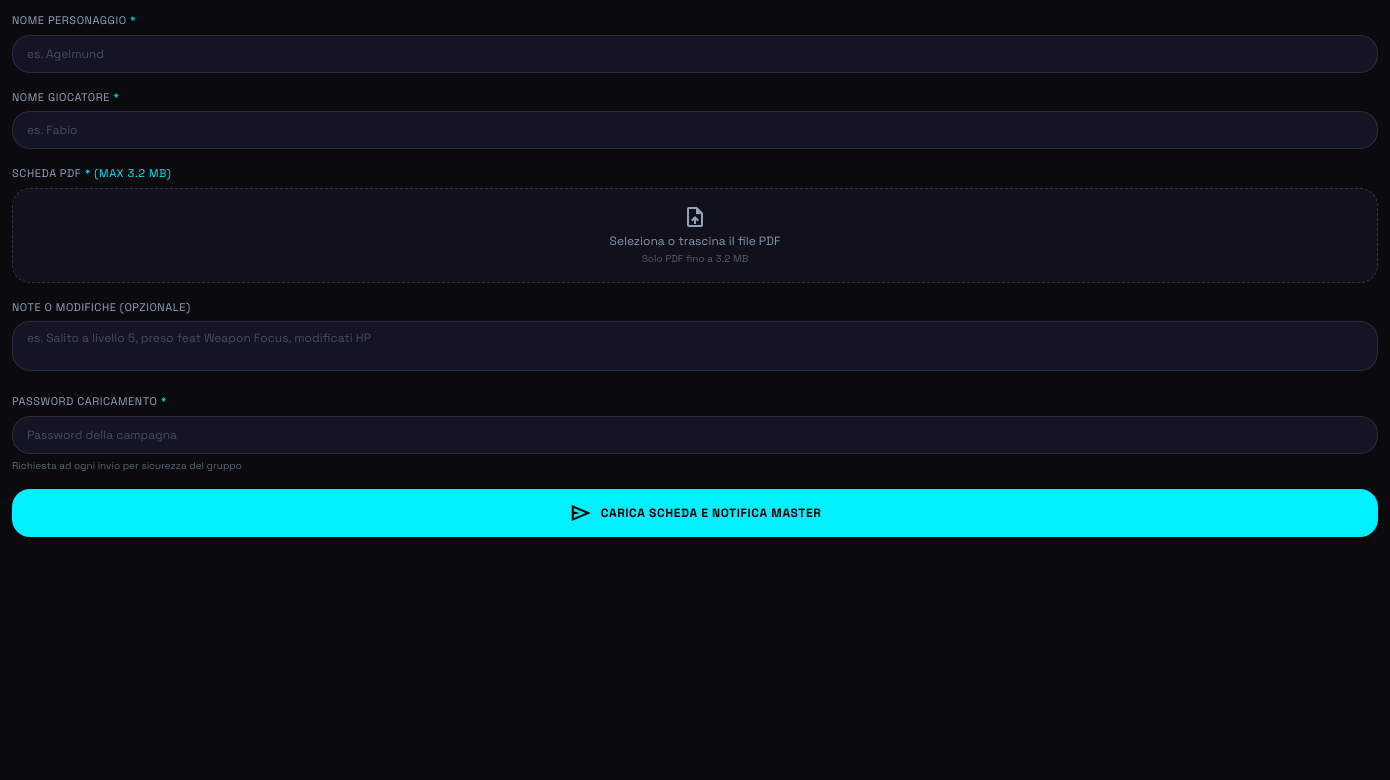
SheetUploadForm › shows error if submitting without a file or fields
In the field with placeholder "es. Agelmund": (695, 54) left=12, top=34, right=1378, bottom=72, type "Agelmund"
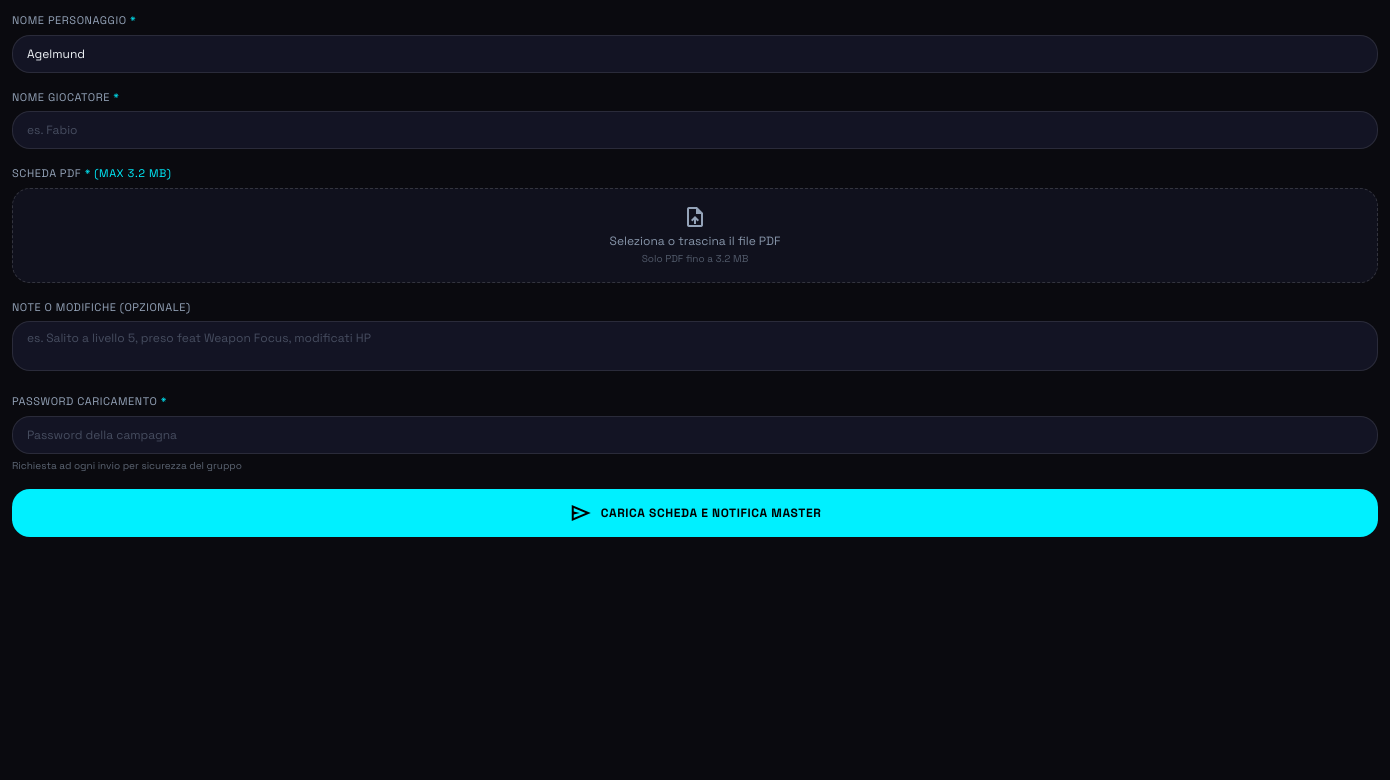
In the field with placeholder "es. Fabio": (695, 130) left=12, top=111, right=1378, bottom=149, type "Fabio"
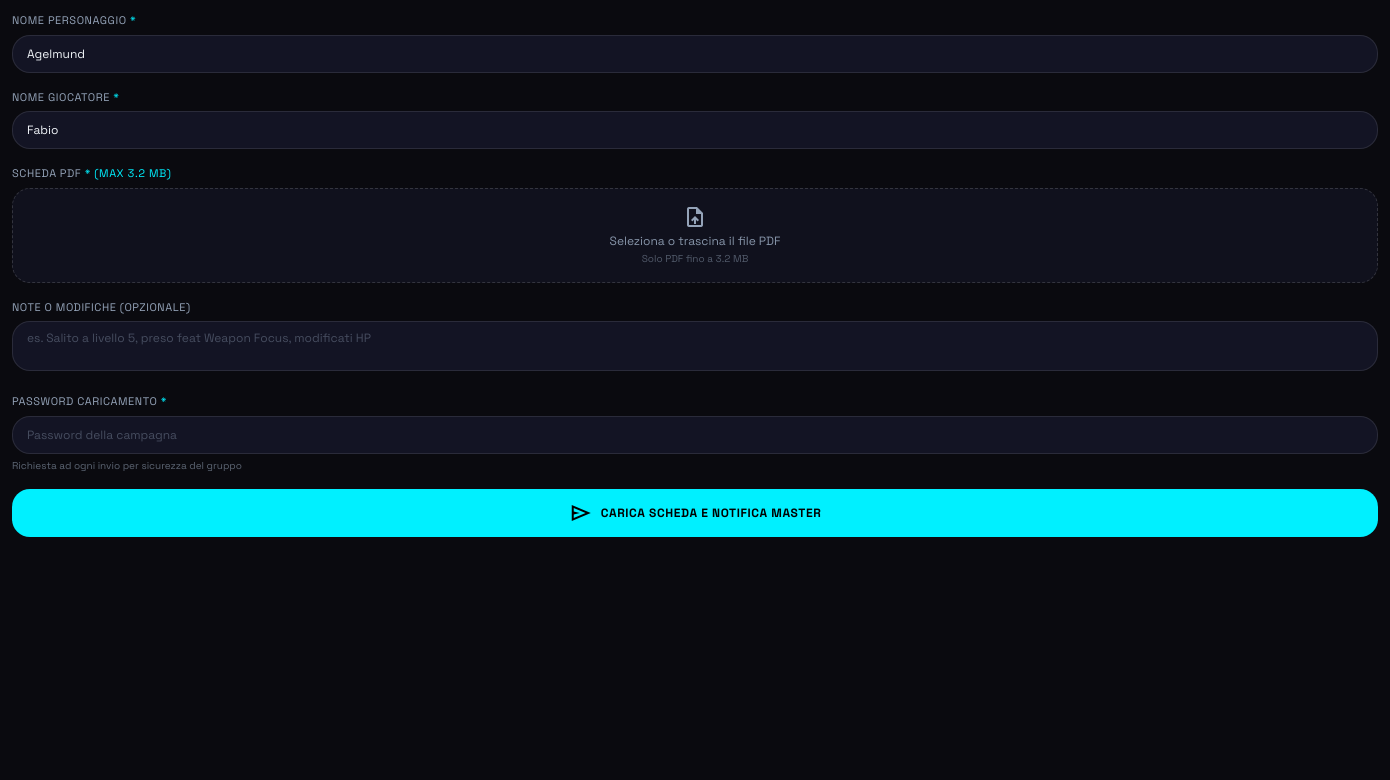
In the password field with placeholder "Password della campagna": (695, 434) left=12, top=416, right=1378, bottom=454, type "secret"
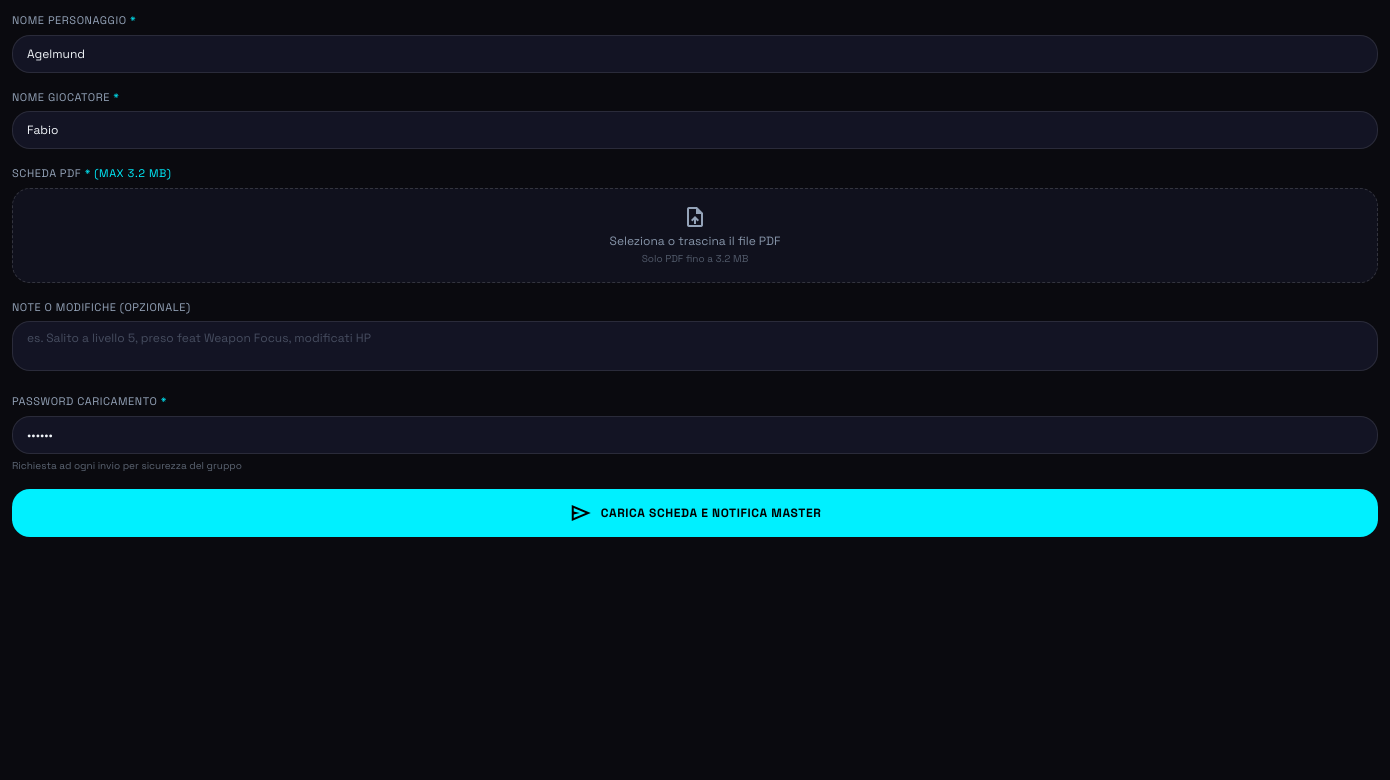
Click the button "Carica Scheda e Notifica Master": (695, 512) left=12, top=488, right=1378, bottom=536
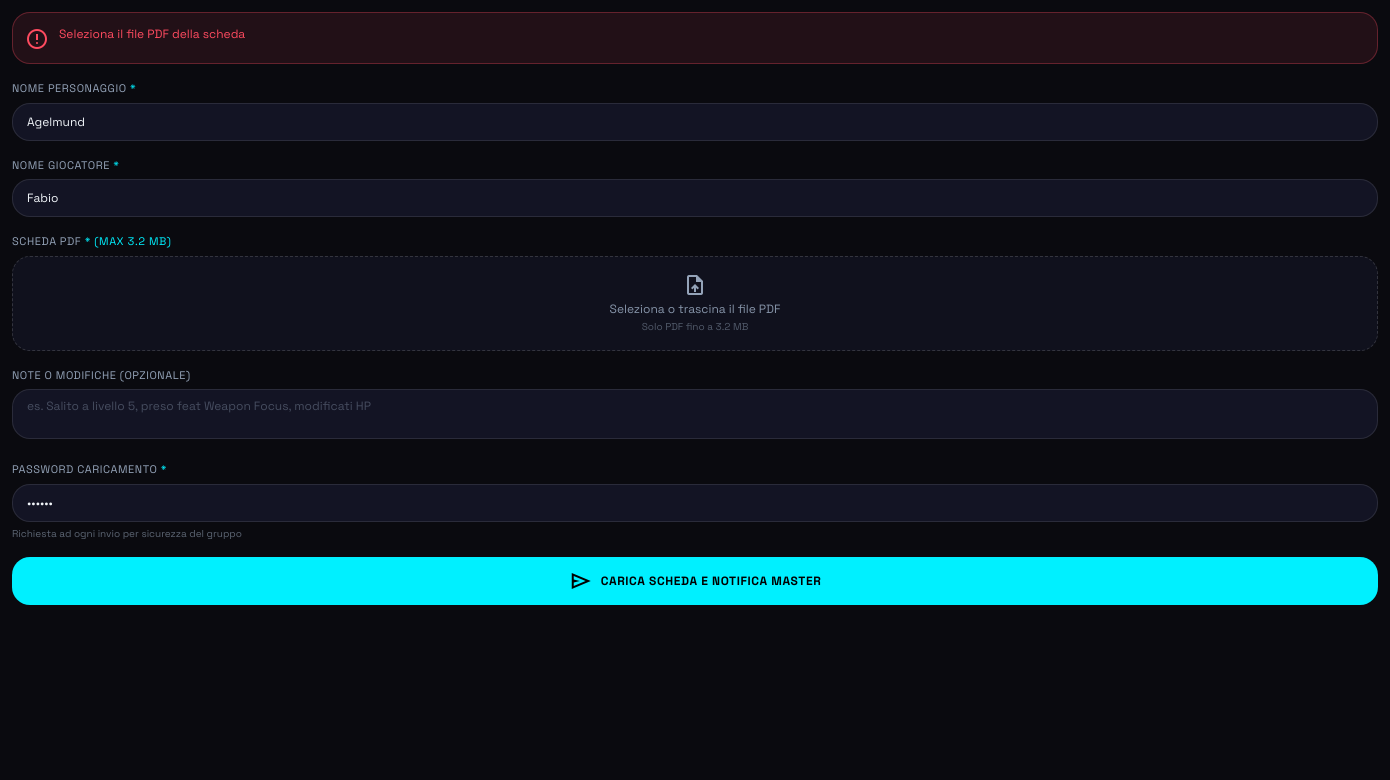
Expected: the text "Seleziona il file PDF della scheda" is shown, left=59, top=25, right=245, bottom=44
